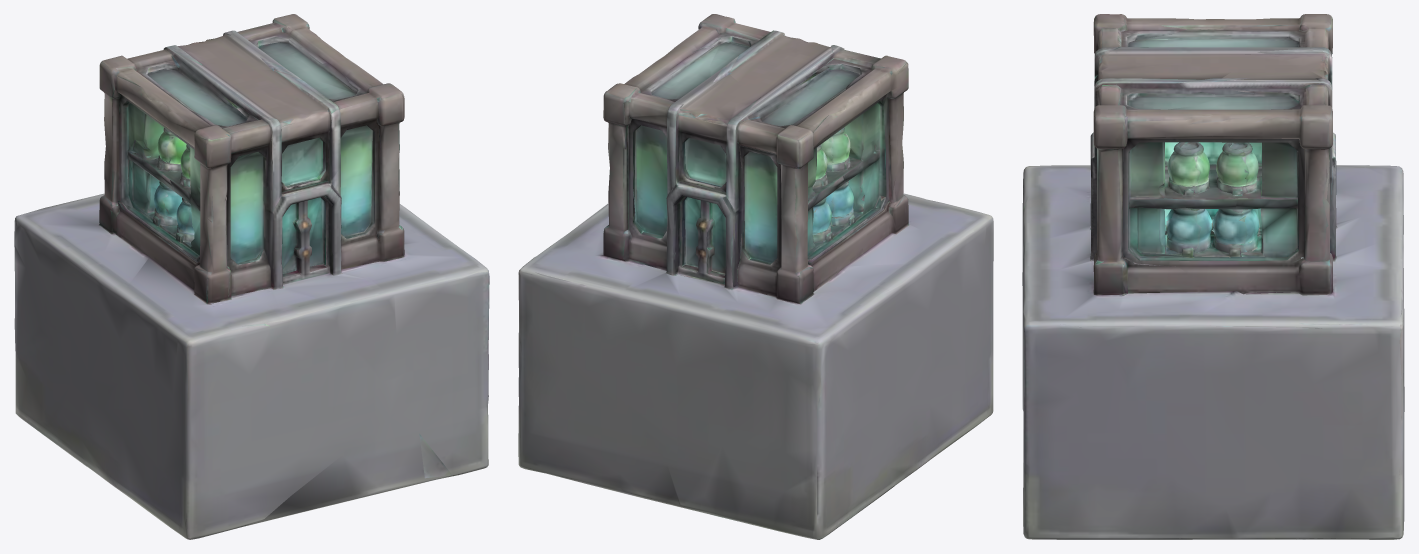
Rendered from building_nursery.glb.
The picture shows the model from 3 angles, left to right: view 1: azimuth 30°, elevation 25°; view 2: azimuth 150°, elevation 25°; view 3: azimuth 270°, elevation 25°; orthographic projection. The views are drawn at different scales.
Visible parts, largest first — view 1: Mesh_0; view 2: Mesh_0; view 3: Mesh_0.
Part boxes in pixels (x1,y1,x2,y2): Mesh_0: (14, 14, 489, 539); Mesh_0: (518, 14, 993, 539); Mesh_0: (1022, 14, 1404, 539).
Bounding box in the file's own units: 1.66 × 1.91 × 1.66.
1 material, 1 textured.
